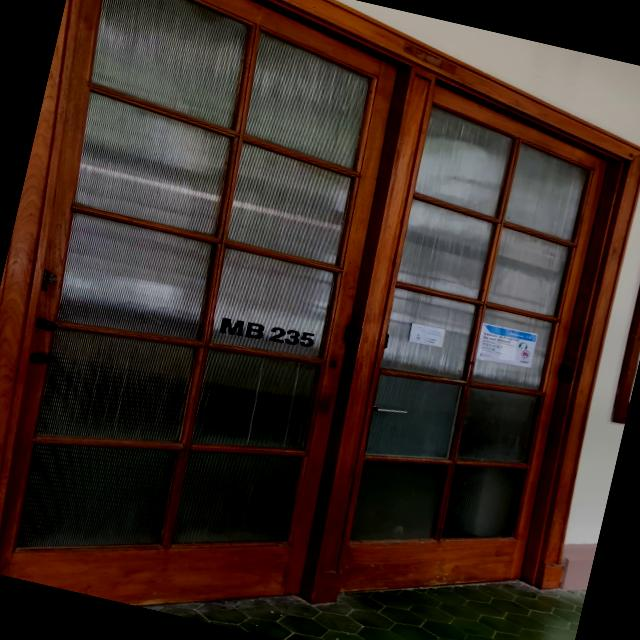room235Window: (214, 310, 318, 358)
